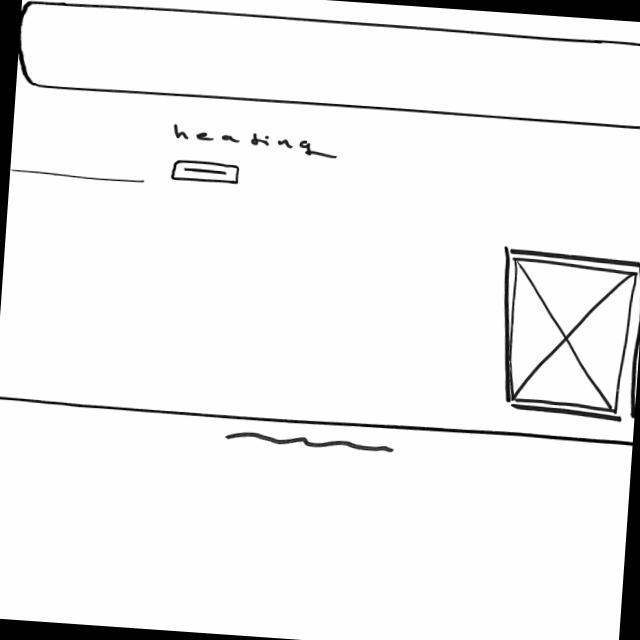container: (16, 1, 640, 134), (492, 246, 640, 425)
icon-button: (172, 159, 242, 186)
image: (503, 258, 637, 414)
label: (172, 124, 342, 162)
text: (224, 428, 397, 457)
